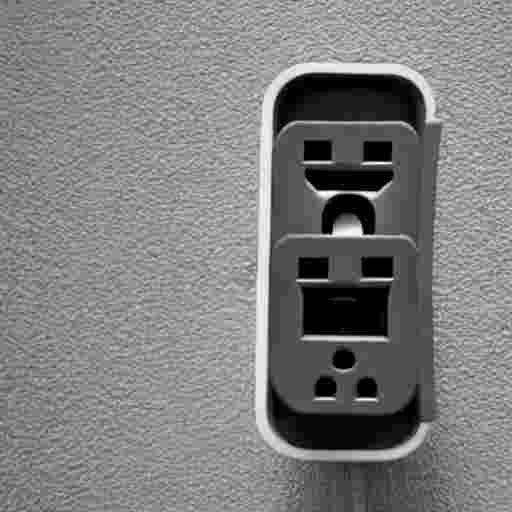power outlet: (255, 63, 440, 461)
